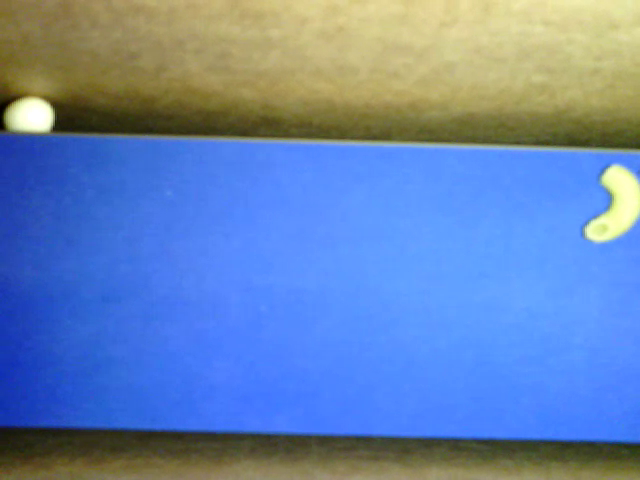elbow: (583, 163, 639, 244)
